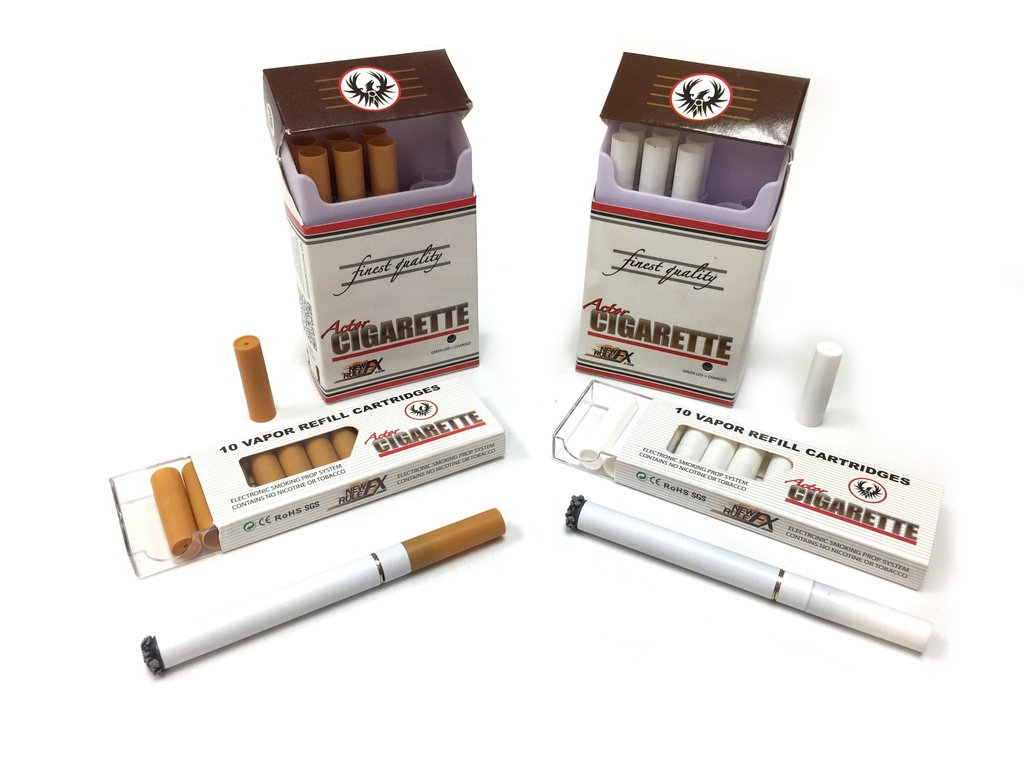cigarette: (137, 529, 548, 675)
